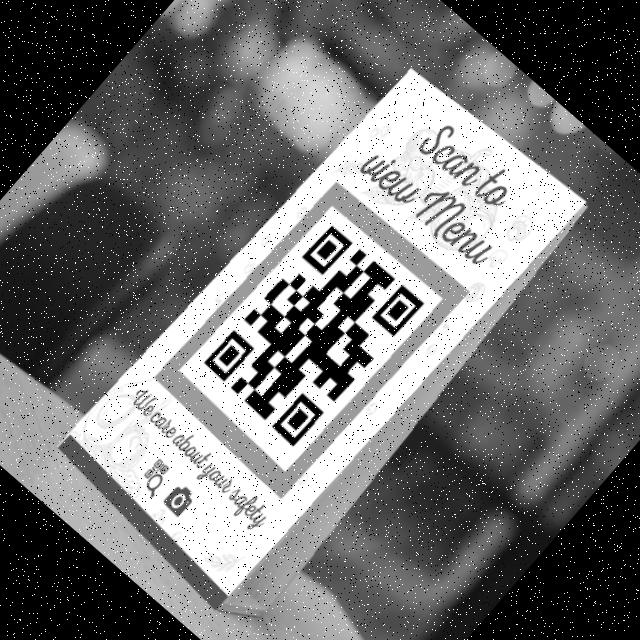QR-codes: (199, 218, 422, 447)
